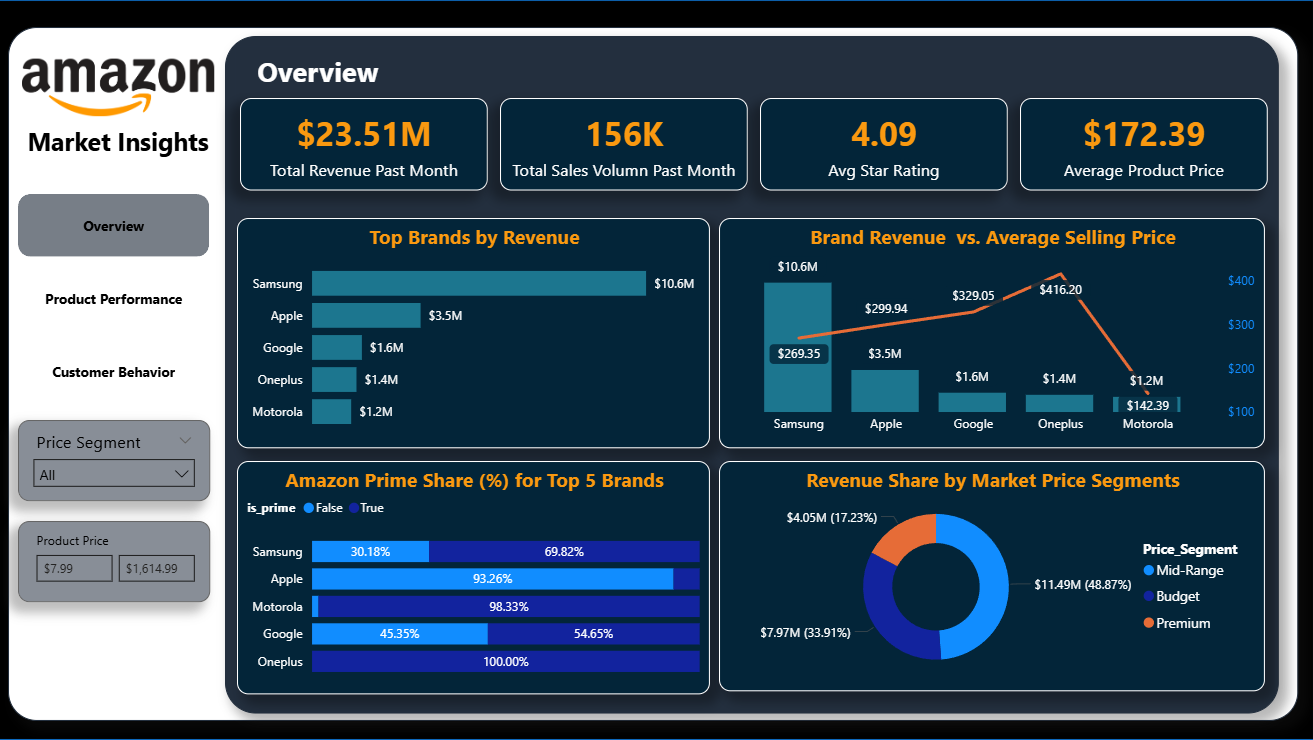

The dashboard page shown, as its layout file describes it:
{"tool":"powerbi","page":{"name":"Overview","canvas":[1280,720],"ordinal":0},"visuals":[{"type":"shape","box":[0,0,1280,719.8],"z":0},{"type":"shape","box":[10,26,1254.7,675],"z":1000},{"type":"shape","box":[221,35,1025.2,659.5],"z":2000},{"type":"image","box":[23.3,35,186.7,100.2],"z":3000},{"type":"textbox","box":[23.3,115.7,186.7,45.7],"z":4000},{"type":"pageNavigator","box":[19.5,188.7,186.7,204.3],"z":5000},{"type":"textbox","box":[247.1,45.7,136.2,66.1],"z":6000},{"type":"card","fields":{"Values":["--Measures.Total Revenue Past Month"]},"box":[235.4,95.3,241.2,90],"z":7000},{"type":"card","fields":{"Values":["--Measures.total_sales_volume"]},"box":[488.3,95.3,241.2,90.5],"z":8000},{"type":"card","fields":{"Values":["--Measures.avg_star_rating"]},"box":[741.2,95.3,241.2,90.5],"z":9000},{"type":"card","fields":{"Values":["Avg(phone search (1).product_price)"]},"box":[994,95.3,241.2,90.5],"z":11000},{"type":"clusteredBarChart","title":"Top Brands by Revenue","fields":{"Category":["phone search (1).Brand"],"Y":["--Measures.Total Revenue Past Month"]},"box":[232.5,212,460.1,223.7],"z":12000},{"type":"lineStackedColumnComboChart","title":"Brand Revenue  vs. Average Selling Price","fields":{"Category":["phone search (1).Brand"],"Y2":["Avg(phone search (1).product_price)"],"Y":["--Measures.Total Revenue Past Month"]},"box":[701.3,212,531.1,223.7],"z":13000},{"type":"hundredPercentStackedBarChart","title":"Amazon Prime Share (%) for Top 5 Brands","fields":{"Category":["phone search (1).Brand"],"Y":["Sum(phone search (1).CLeand_sales_volume)"],"Series":["phone search (1).is_prime"]},"box":[232.5,448.4,460.1,226.6],"z":14000},{"type":"donutChart","title":"Revenue Share by Market Price Segments","fields":{"Y":["--Measures.Total Revenue Past Month"],"Category":["phone search (1).Price_Segment"]},"box":[701.3,448.4,531.1,223.7],"z":15000},{"type":"slicer","fields":{"Values":["phone search (1).Price_Segment"]},"box":[19.5,408.5,186.7,78.8],"z":16000},{"type":"slicer","fields":{"Values":["phone search (1).product_price"]},"box":[19.5,506.7,186.7,78.8],"z":17000}]}

Visuals, with their boxes in screenshot pixels (x1, y1, x2, y2), scaled from the page's 1280x720 canvas onto the 1313x740 screenshot:
shape: bbox=(0, 0, 1312, 739)
shape: bbox=(10, 27, 1297, 720)
shape: bbox=(227, 36, 1278, 714)
image: bbox=(24, 36, 215, 139)
textbox: bbox=(24, 119, 215, 166)
pageNavigator: bbox=(20, 194, 212, 404)
textbox: bbox=(253, 47, 393, 115)
card - --Measures.Total Revenue Past Month: bbox=(241, 98, 489, 190)
card - --Measures.total_sales_volume: bbox=(501, 98, 748, 191)
card - --Measures.avg_star_rating: bbox=(760, 98, 1008, 191)
card - Avg(phone search (1).product_price): bbox=(1020, 98, 1267, 191)
"Top Brands by Revenue" clusteredBarChart: bbox=(238, 218, 710, 448)
"Brand Revenue  vs. Average Selling Price" lineStackedColumnComboChart: bbox=(719, 218, 1264, 448)
"Amazon Prime Share (%) for Top 5 Brands" hundredPercentStackedBarChart: bbox=(238, 461, 710, 694)
"Revenue Share by Market Price Segments" donutChart: bbox=(719, 461, 1264, 691)
slicer - phone search (1).Price_Segment: bbox=(20, 420, 212, 501)
slicer - phone search (1).product_price: bbox=(20, 521, 212, 602)
